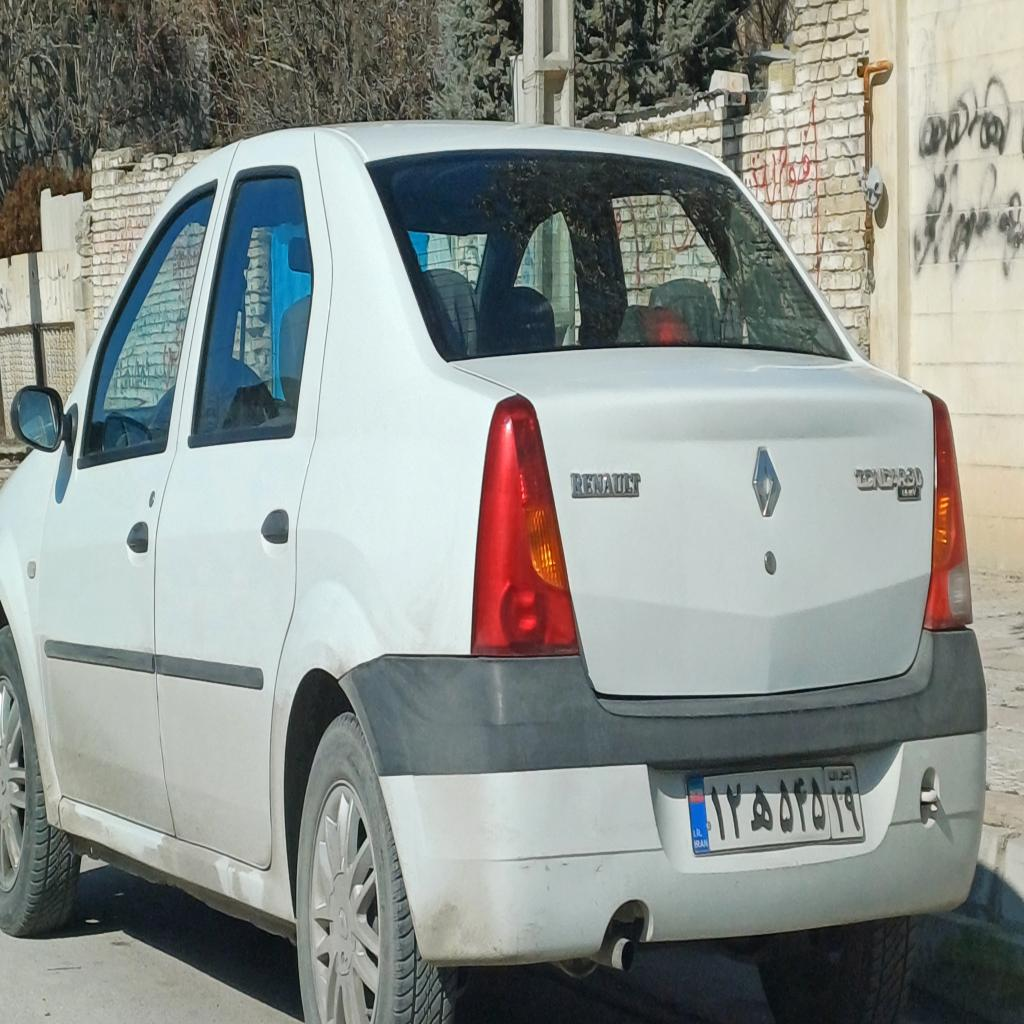Plates: (686, 760, 865, 856)
